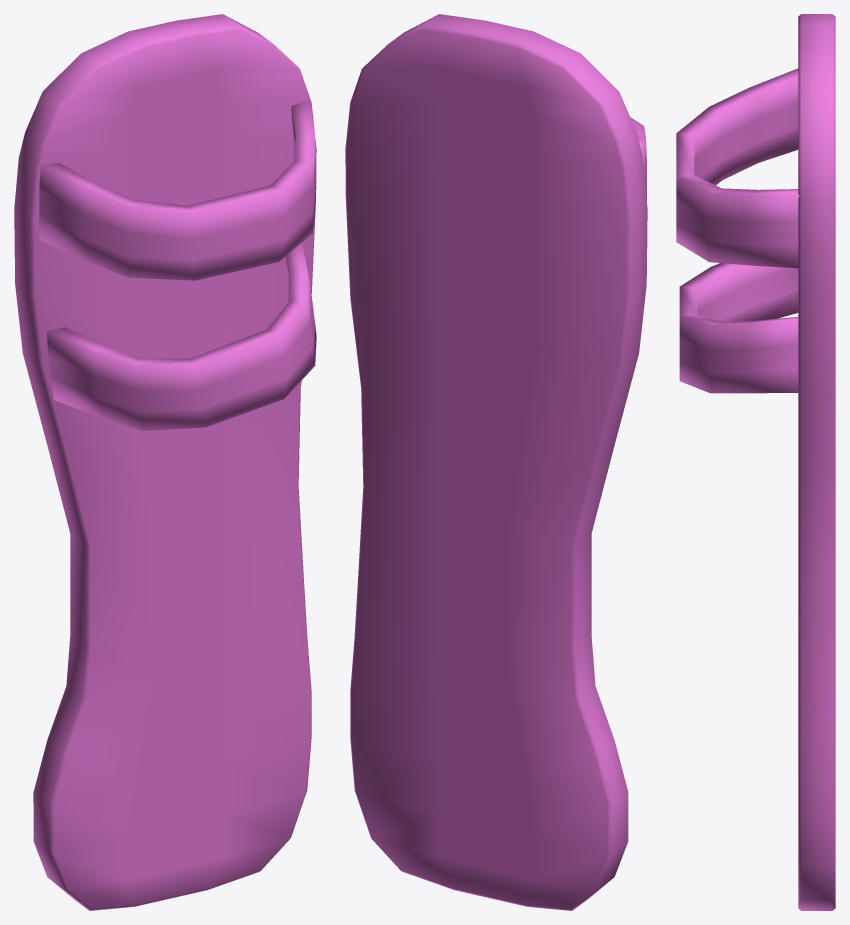
Rendered from shlepanez.fbx.
3 renders of one model, left to right at view 1: azimuth 30°, elevation 25°; view 2: azimuth 150°, elevation 25°; view 3: azimuth 270°, elevation 25°, orthographic. The views are drawn at different scales.
Visible parts, largest first — view 1: Plane; view 2: Plane; view 3: Plane.
Part boxes in pixels (<box>): Plane: <box>14,14,316,910</box>; Plane: <box>345,14,647,910</box>; Plane: <box>676,14,835,910</box>.
Size of the model in its own units: 207 by 595 by 103.
